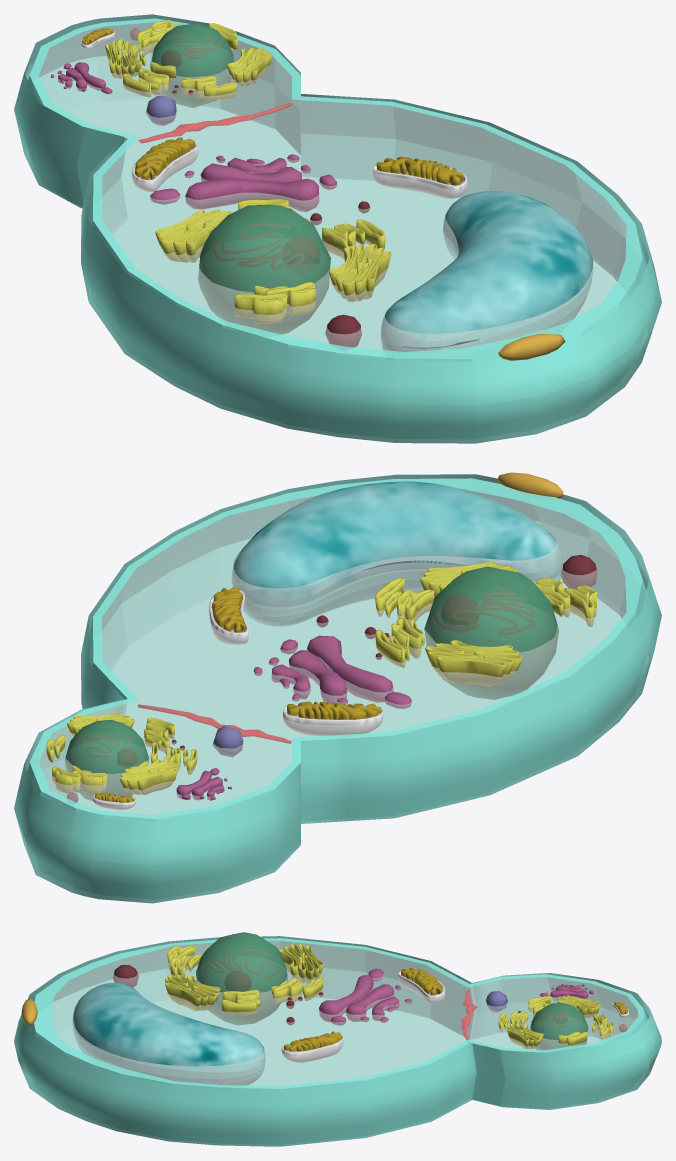
The model's file is fungal_cell.glb.
3 renders of one model, top to bottom at view 1: azimuth 30°, elevation 25°; view 2: azimuth 150°, elevation 25°; view 3: azimuth 270°, elevation 25°, orthographic. The views are drawn at different scales.
Visible parts, largest first — view 1: Cytoplasm.001; view 2: Cytoplasm.001; view 3: Cytoplasm.001.
Part boxes in pixels (x1=…): Cytoplasm.001: x1=14, y1=14, x2=661, y2=443; Cytoplasm.001: x1=14, y1=472, x2=661, y2=903; Cytoplasm.001: x1=14, y1=932, x2=661, y2=1146.
Size of the model in its own units: 8.89 by 2.46 by 15.27.
Materials: 14 (1 with a texture image).
